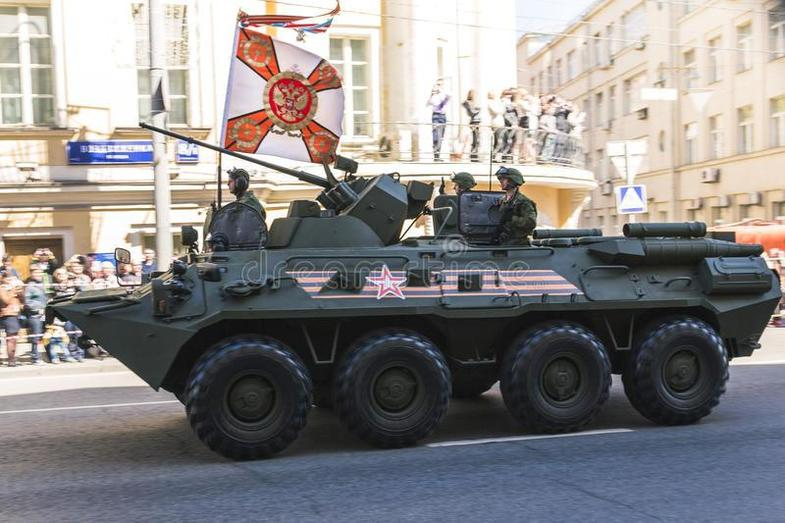btr: (51, 204, 779, 438)
